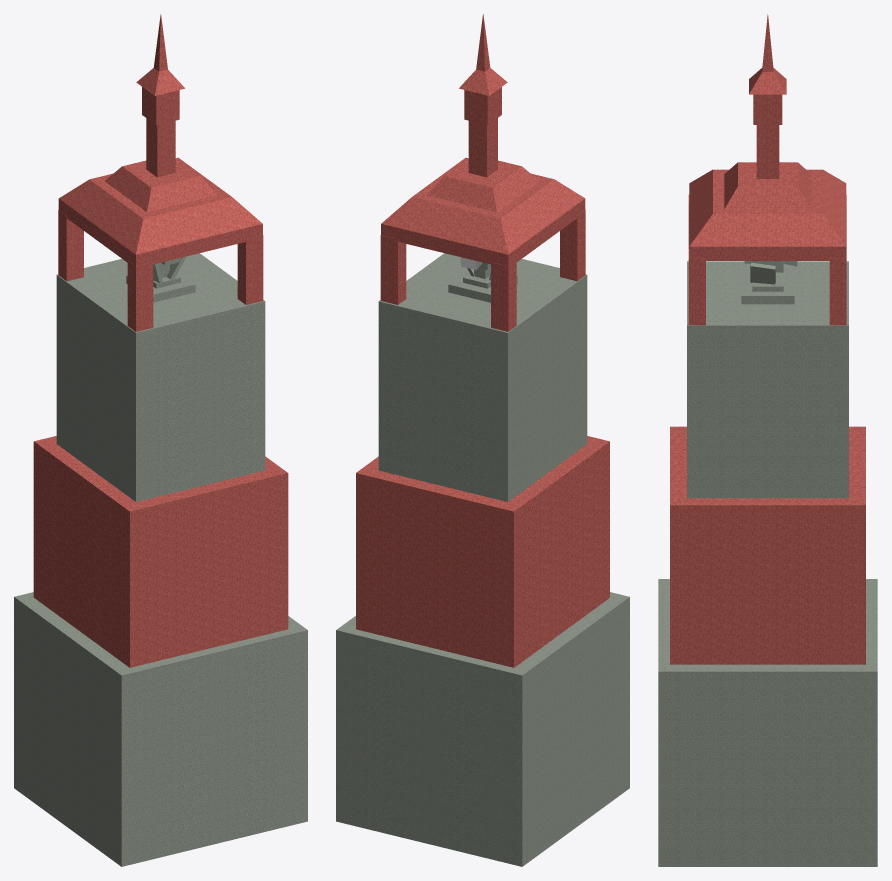
File: BLOCKYGON_LIGHT HOUSE.fbx
3 views of the same model, side by side, from view 1: azimuth 30°, elevation 25°; view 2: azimuth 150°, elevation 25°; view 3: azimuth 270°, elevation 25° (orthographic).
Visible parts, largest first — view 1: BLOCKYGON_LIGHT_HOUSE; view 2: BLOCKYGON_LIGHT_HOUSE; view 3: BLOCKYGON_LIGHT_HOUSE.
Part boxes in pixels (bbox=[...]): BLOCKYGON_LIGHT_HOUSE: bbox=[14, 14, 307, 866]; BLOCKYGON_LIGHT_HOUSE: bbox=[336, 14, 629, 866]; BLOCKYGON_LIGHT_HOUSE: bbox=[658, 14, 877, 866].
Bounding box in the file's own units: 1000 × 4057 × 1000.
